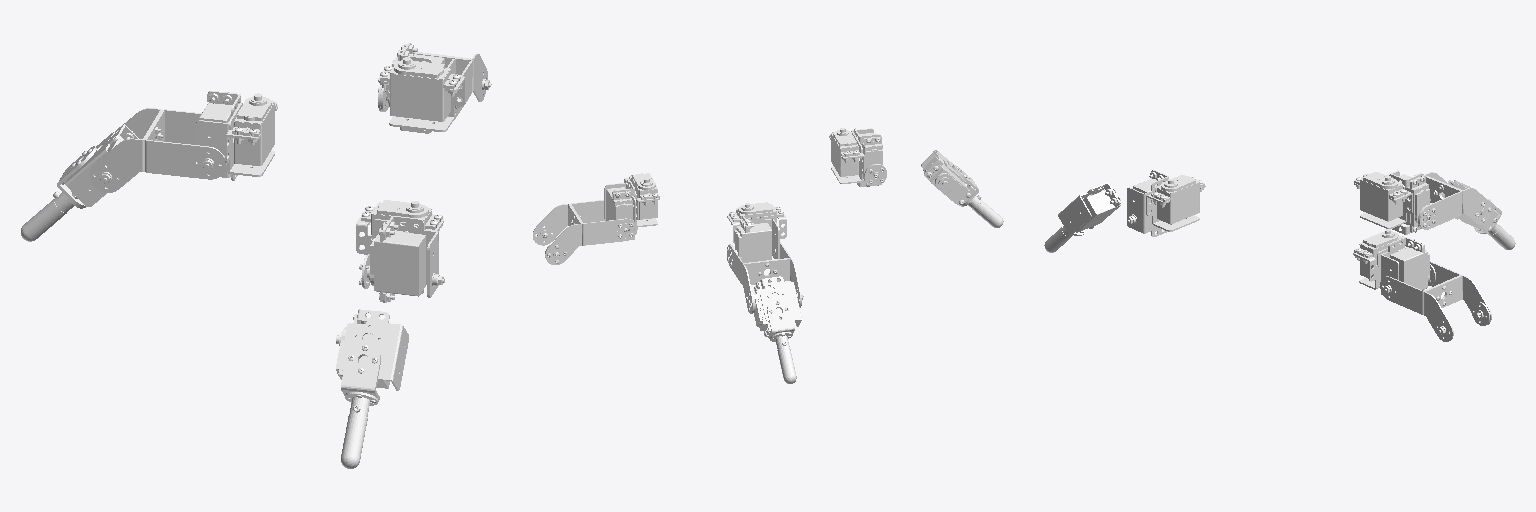
The robot description file, URDF, robot "THex_Quadruped":
<robot name="THex_Quadruped">
    <link name="base_link">
        <inertial>
            <mass value="0.30423"/>
            <origin xyz="-1.0171e-10 -0.0086065 0.03608" rpy="0 -0 0"/>
            <inertia ixx="0.00232" ixy="0" ixz="0" iyy="0.00064" iyz="8e-05" izz="0.00225"/>
        </inertial>
        <visual>
            <origin xyz="0 0 0" rpy="0 -0 0"/>
            <geometry>
                <mesh filename="model://THex_Quadruped/meshes/base_link.STL" scale="1 1 1"/>
            </geometry>
            <material name="base_linkbase_link_visual">
                <texture/>
                <color rgba="1.2 1.2 1.2 1.2"/>
            </material>
        </visual>
        <collision>
            <origin xyz="0 0 0" rpy="0 -0 0"/>
            <geometry>
                <mesh filename="model://THex_Quadruped/meshes/base_link_collision.STL" scale="1 1 1"/>
            </geometry>
        </collision>
    </link>
    <link name="bl_foot">
        <inertial>
            <mass value="0.09125"/>
            <origin xyz="0.021142 0.0035788 -0.0013921" rpy="-2.35926e-33 1.11022e-16 -4.25007e-17"/>
            <inertia ixx="1e-05" ixy="0" ixz="0" iyy="4e-05" iyz="0" izz="4e-05"/>
        </inertial>
        <visual>
            <origin xyz="-2.22045e-16 -2.77556e-16 1.2326e-32" rpy="-9.43706e-33 2.22045e-16 -8.50015e-17"/>
            <geometry>
                <mesh filename="model://THex_Quadruped/meshes/bl_foot.STL" scale="1 1 1"/>
            </geometry>
            <material name="bl_footbl_foot_visual">
                <texture/>
                <color rgba="1.2 1.2 1.2 1.2"/>
            </material>
        </visual>
        <collision>
            <origin xyz="-2.22045e-16 -2.77556e-16 1.2326e-32" rpy="-9.43706e-33 2.22045e-16 -8.50015e-17"/>
            <geometry>
                <mesh filename="model://THex_Quadruped/meshes/bl_foot_collision.STL" scale="1 1 1"/>
            </geometry>
        </collision>
    </link>
    <link name="bl_hip">
        <inertial>
            <mass value="0.14763"/>
            <origin xyz="0.015013 -0.0039618 0.012299" rpy="0 -0 0"/>
            <inertia ixx="5e-05" ixy="1e-05" ixz="-1e-05" iyy="5e-05" iyz="0" izz="6e-05"/>
        </inertial>
        <visual>
            <origin xyz="1.11022e-16 1.38778e-16 0" rpy="0 -0 0"/>
            <geometry>
                <mesh filename="model://THex_Quadruped/meshes/bl_hip.STL" scale="1 1 1"/>
            </geometry>
            <material name="bl_hipbl_hip_visual">
                <texture/>
                <color rgba="1.2 1.2 1.2 1.2"/>
            </material>
        </visual>
        <collision>
            <origin xyz="1.11022e-16 1.38778e-16 0" rpy="0 -0 0"/>
            <geometry>
                <mesh filename="model://THex_Quadruped/meshes/bl_hip_collision.STL" scale="1 1 1"/>
            </geometry>
        </collision>
    </link>
    <link name="bl_knee">
        <inertial>
            <mass value="0.03468"/>
            <origin xyz="0.045291 0.0044813 -0.0012523" rpy="0 -5.55112e-17 0"/>
            <inertia ixx="2e-05" ixy="0" ixz="0" iyy="3e-05" iyz="0" izz="2e-05"/>
        </inertial>
        <visual>
            <origin xyz="5.55112e-17 2.77556e-17 -1.38778e-17" rpy="0 -1.11022e-16 0"/>
            <geometry>
                <mesh filename="model://THex_Quadruped/meshes/bl_knee.STL" scale="1 1 1"/>
            </geometry>
            <material name="bl_kneebl_knee_visual">
                <texture/>
                <color rgba="1.2 1.2 1.2 1.2"/>
            </material>
        </visual>
        <collision>
            <origin xyz="5.55112e-17 2.77556e-17 -1.38778e-17" rpy="0 -1.11022e-16 0"/>
            <geometry>
                <mesh filename="model://THex_Quadruped/meshes/bl_knee_collision.STL" scale="1 1 1"/>
            </geometry>
        </collision>
    </link>
    <link name="br_foot">
        <inertial>
            <mass value="0.09125"/>
            <origin xyz="0.020857 -0.003581 -0.0013921" rpy="-4.33681e-19 1.77809e-17 1.82146e-17"/>
            <inertia ixx="1e-05" ixy="0" ixz="0" iyy="4e-05" iyz="0" izz="4e-05"/>
        </inertial>
        <visual>
            <origin xyz="5.55112e-17 5.55112e-17 -5.05557e-34" rpy="-8.67362e-19 3.55618e-17 3.64292e-17"/>
            <geometry>
                <mesh filename="model://THex_Quadruped/meshes/br_foot.STL" scale="1 1 1"/>
            </geometry>
            <material name="br_footbr_foot_visual">
                <texture/>
                <color rgba="1.2 1.2 1.2 1.2"/>
            </material>
        </visual>
        <collision>
            <origin xyz="5.55112e-17 5.55112e-17 -5.05557e-34" rpy="-8.67362e-19 3.55618e-17 3.64292e-17"/>
            <geometry>
                <mesh filename="model://THex_Quadruped/meshes/br_foot_collision.STL" scale="1 1 1"/>
            </geometry>
        </collision>
    </link>
    <link name="br_hip">
        <inertial>
            <mass value="0.14763"/>
            <origin xyz="0.014987 0.0036918 0.011971" rpy="0 -0 0"/>
            <inertia ixx="5e-05" ixy="-1e-05" ixz="-1e-05" iyy="5e-05" iyz="0" izz="6e-05"/>
        </inertial>
        <visual>
            <origin xyz="-5.55112e-17 2.77556e-17 -2.1684e-19" rpy="0 -0 0"/>
            <geometry>
                <mesh filename="model://THex_Quadruped/meshes/br_hip.STL" scale="1 1 1"/>
            </geometry>
            <material name="br_hipbr_hip_visual">
                <texture/>
                <color rgba="1.2 1.2 1.2 1.2"/>
            </material>
        </visual>
        <collision>
            <origin xyz="-5.55112e-17 2.77556e-17 -2.1684e-19" rpy="0 -0 0"/>
            <geometry>
                <mesh filename="model://THex_Quadruped/meshes/br_hip_collision.STL" scale="1 1 1"/>
            </geometry>
        </collision>
    </link>
    <link name="br_knee">
        <inertial>
            <mass value="0.03468"/>
            <origin xyz="0.045283 -0.0044813 -0.0010646" rpy="4.62223e-33 -1.66533e-16 -5.55112e-17"/>
            <inertia ixx="2e-05" ixy="0" ixz="0" iyy="3e-05" iyz="0" izz="2e-05"/>
        </inertial>
        <visual>
            <origin xyz="1.11022e-16 9.71445e-17 -1.38778e-17" rpy="1.84889e-32 -3.33067e-16 -1.11022e-16"/>
            <geometry>
                <mesh filename="model://THex_Quadruped/meshes/br_knee.STL" scale="1 1 1"/>
            </geometry>
            <material name="br_kneebr_knee_visual">
                <texture/>
                <color rgba="1.2 1.2 1.2 1.2"/>
            </material>
        </visual>
        <collision>
            <origin xyz="1.11022e-16 9.71445e-17 -1.38778e-17" rpy="1.84889e-32 -3.33067e-16 -1.11022e-16"/>
            <geometry>
                <mesh filename="model://THex_Quadruped/meshes/br_knee_collision.STL" scale="1 1 1"/>
            </geometry>
        </collision>
    </link>
    <link name="fl_foot">
        <inertial>
            <mass value="0.09125"/>
            <origin xyz="0.021142 0.0035788 -0.0013921" rpy="1.27593e-33 -4.59702e-17 -5.55112e-17"/>
            <inertia ixx="1e-05" ixy="0" ixz="0" iyy="4e-05" iyz="0" izz="4e-05"/>
        </inertial>
        <visual>
            <origin xyz="-1.11022e-16 3.08149e-33 -2.55186e-33" rpy="5.10371e-33 -9.19403e-17 -1.11022e-16"/>
            <geometry>
                <mesh filename="model://THex_Quadruped/meshes/fl_foot.STL" scale="1 1 1"/>
            </geometry>
            <material name="fl_footfl_foot_visual">
                <texture/>
                <color rgba="1.2 1.2 1.2 1.2"/>
            </material>
        </visual>
        <collision>
            <origin xyz="-1.11022e-16 3.08149e-33 -2.55186e-33" rpy="5.10371e-33 -9.19403e-17 -1.11022e-16"/>
            <geometry>
                <mesh filename="model://THex_Quadruped/meshes/fl_foot_collision.STL" scale="1 1 1"/>
            </geometry>
        </collision>
    </link>
    <link name="fl_hip">
        <inertial>
            <mass value="0.14763"/>
            <origin xyz="0.015006 0.0056423 0.012299" rpy="0 -0 0"/>
            <inertia ixx="5e-05" ixy="-1e-05" ixz="-1e-05" iyy="5e-05" iyz="0" izz="6e-05"/>
        </inertial>
        <visual>
            <origin xyz="-2.77556e-17 -1.38778e-17 0" rpy="0 -0 0"/>
            <geometry>
                <mesh filename="model://THex_Quadruped/meshes/fl_hip.STL" scale="1 1 1"/>
            </geometry>
            <material name="fl_hipfl_hip_visual">
                <texture/>
                <color rgba="1.2 1.2 1.2 1.2"/>
            </material>
        </visual>
        <collision>
            <origin xyz="-2.77556e-17 -1.38778e-17 0" rpy="0 -0 0"/>
            <geometry>
                <mesh filename="model://THex_Quadruped/meshes/fl_hip_collision.STL" scale="1 1 1"/>
            </geometry>
        </collision>
    </link>
    <link name="fl_knee">
        <inertial>
            <mass value="0.034681"/>
            <origin xyz="0.045273 0.0044813 -0.00044769" rpy="0 -5.55112e-17 0"/>
            <inertia ixx="2e-05" ixy="0" ixz="0" iyy="3e-05" iyz="0" izz="2e-05"/>
        </inertial>
        <visual>
            <origin xyz="-5.55112e-17 3.46945e-17 -1.54074e-33" rpy="0 -1.11022e-16 0"/>
            <geometry>
                <mesh filename="model://THex_Quadruped/meshes/fl_knee.STL" scale="1 1 1"/>
            </geometry>
            <material name="fl_kneefl_knee_visual">
                <texture/>
                <color rgba="1.2 1.2 1.2 1.2"/>
            </material>
        </visual>
        <collision>
            <origin xyz="-5.55112e-17 3.46945e-17 -1.54074e-33" rpy="0 -1.11022e-16 0"/>
            <geometry>
                <mesh filename="model://THex_Quadruped/meshes/fl_knee_collision.STL" scale="1 1 1"/>
            </geometry>
        </collision>
    </link>
    <link name="fr_foot">
        <inertial>
            <mass value="0.09125"/>
            <origin xyz="0.020857 -0.003581 -0.0013921" rpy="0 -0 5.55112e-17"/>
            <inertia ixx="1e-05" ixy="0" ixz="0" iyy="4e-05" iyz="0" izz="4e-05"/>
        </inertial>
        <visual>
            <origin xyz="-1.11022e-16 -3.08149e-33 -1.38778e-17" rpy="0 -0 1.11022e-16"/>
            <geometry>
                <mesh filename="model://THex_Quadruped/meshes/fr_foot.STL" scale="1 1 1"/>
            </geometry>
            <material name="fr_footfr_foot_visual">
                <texture/>
                <color rgba="1.2 1.2 1.2 1.2"/>
            </material>
        </visual>
        <collision>
            <origin xyz="-1.11022e-16 -3.08149e-33 -1.38778e-17" rpy="0 -0 1.11022e-16"/>
            <geometry>
                <mesh filename="model://THex_Quadruped/meshes/fr_foot_collision.STL" scale="1 1 1"/>
            </geometry>
        </collision>
    </link>
    <link name="fr_hip">
        <inertial>
            <mass value="0.14763"/>
            <origin xyz="0.015044 -0.0059121 0.011971" rpy="0 -0 0"/>
            <inertia ixx="5e-05" ixy="1e-05" ixz="-1e-05" iyy="5e-05" iyz="0" izz="6e-05"/>
        </inertial>
        <visual>
            <origin xyz="0 0 0" rpy="0 -0 0"/>
            <geometry>
                <mesh filename="model://THex_Quadruped/meshes/fr_hip.STL" scale="1 1 1"/>
            </geometry>
            <material name="fr_hipfr_hip_visual">
                <texture/>
                <color rgba="1.2 1.2 1.2 1.2"/>
            </material>
        </visual>
        <collision>
            <origin xyz="0 0 0" rpy="0 -0 0"/>
            <geometry>
                <mesh filename="model://THex_Quadruped/meshes/fr_hip_collision.STL" scale="1 1 1"/>
            </geometry>
        </collision>
    </link>
    <link name="fr_knee">
        <inertial>
            <mass value="0.03468"/>
            <origin xyz="0.045275 -0.0044813 -0.00025994" rpy="0 -5.55112e-17 0"/>
            <inertia ixx="2e-05" ixy="0" ixz="0" iyy="3e-05" iyz="0" izz="2e-05"/>
        </inertial>
        <visual>
            <origin xyz="-7.70372e-34 3.46945e-17 2.77556e-17" rpy="0 -1.11022e-16 0"/>
            <geometry>
                <mesh filename="model://THex_Quadruped/meshes/fr_knee.STL" scale="1 1 1"/>
            </geometry>
            <material name="fr_kneefr_knee_visual">
                <texture/>
                <color rgba="1.2 1.2 1.2 1.2"/>
            </material>
        </visual>
        <collision>
            <origin xyz="-7.70372e-34 3.46945e-17 2.77556e-17" rpy="0 -1.11022e-16 0"/>
            <geometry>
                <mesh filename="model://THex_Quadruped/meshes/fr_knee_collision.STL" scale="1 1 1"/>
            </geometry>
        </collision>
    </link>
    <joint name="bl_foot_joint" type="revolute">
        <origin xyz="0.073069 0.018656 -0.00019751" rpy="3.134 0.0073895 0.7853"/>
        <axis xyz="1.11022e-16 -2.35926e-33 1"/>
        <parent link="bl_knee"/>
        <child link="bl_foot"/>
        <dynamics damping="0" friction="0"/>
        <limit effort="0.9414" velocity="5.23" lower="-1.5707" upper="1.5707"/>
    </joint>
    <joint name="bl_hip_joint" type="revolute">
        <origin xyz="-0.053162 -0.12711 0" rpy="0 0 -2.372"/>
        <axis xyz="0 0 1"/>
        <parent link="base_link"/>
        <child link="bl_hip"/>
        <dynamics damping="0" friction="0"/>
        <limit effort="0.9414" velocity="5.23" lower="-0.7853" upper="0.7853"/>
    </joint>
    <joint name="bl_knee_joint" type="revolute">
        <origin xyz="0.028451 6.245e-17 0" rpy="-1.5602 0 0"/>
        <axis xyz="-5.55112e-17 0 1"/>
        <parent link="bl_hip"/>
        <child link="bl_knee"/>
        <dynamics damping="0" friction="0"/>
        <limit effort="0.9414" velocity="5.23" lower="-1.5707" upper="1.5707"/>
    </joint>
    <joint name="br_foot_joint" type="revolute">
        <origin xyz="0.073065 -0.018656 -0.0001221" rpy="-3.1369 0.0045678 -0.7853"/>
        <axis xyz="1.77809e-17 4.33681e-19 1"/>
        <parent link="br_knee"/>
        <child link="br_foot"/>
        <dynamics damping="0" friction="0"/>
        <limit effort="0.9414" velocity="5.23" lower="-1.5707" upper="1.5707"/>
    </joint>
    <joint name="br_hip_joint" type="revolute">
        <origin xyz="0.053162 -0.12711 0.0005334" rpy="0 0 -0.77529"/>
        <axis xyz="0 0 1"/>
        <parent link="base_link"/>
        <child link="br_hip"/>
        <dynamics damping="0" friction="0"/>
        <limit effort="0.9414" velocity="5.23" lower="-0.7853" upper="0.7853"/>
    </joint>
    <joint name="br_knee_joint" type="revolute">
        <origin xyz="0.028449 -6.93889e-18 -1.0842e-19" rpy="1.5643 -0 0"/>
        <axis xyz="-1.66533e-16 4.62223e-33 1"/>
        <parent link="br_hip"/>
        <child link="br_knee"/>
        <dynamics damping="0" friction="0"/>
        <limit effort="0.9414" velocity="5.23" lower="-1.5707" upper="1.5707"/>
    </joint>
    <joint name="fl_foot_joint" type="revolute">
        <origin xyz="0.073066 0.018656 0.00012569" rpy="-3.1368 -0.0047025 0.7853"/>
        <axis xyz="-4.59702e-17 1.27593e-33 1"/>
        <parent link="fl_knee"/>
        <child link="fl_foot"/>
        <dynamics damping="0" friction="0"/>
        <limit effort="0.9414" velocity="5.23" lower="-1.5707" upper="1.5707"/>
    </joint>
    <joint name="fl_hip_joint" type="revolute">
        <origin xyz="-0.059512 0.078854 0" rpy="0 -0 2.3666"/>
        <axis xyz="0 0 1"/>
        <parent link="base_link"/>
        <child link="fl_hip"/>
        <dynamics damping="0" friction="0"/>
        <limit effort="0.9414" velocity="5.23" lower="-0.7853" upper="0.7853"/>
    </joint>
    <joint name="fl_knee_joint" type="revolute">
        <origin xyz="0.028449 -6.93889e-18 0" rpy="-1.5775 3.93837e-17 3.91205e-17"/>
        <axis xyz="-5.55112e-17 0 1"/>
        <parent link="fl_hip"/>
        <child link="fl_knee"/>
        <dynamics damping="0" friction="0"/>
        <limit effort="0.9414" velocity="5.23" lower="-1.5707" upper="1.5707"/>
    </joint>
    <joint name="fr_foot_joint" type="revolute">
        <origin xyz="0.07307 -0.018656 0.0002011" rpy="3.1339 -0.0075232 -0.7853"/>
        <axis xyz="0 0 1"/>
        <parent link="fr_knee"/>
        <child link="fr_foot"/>
        <dynamics damping="0" friction="0"/>
        <limit effort="0.9414" velocity="5.23" lower="-1.5707" upper="1.5707"/>
    </joint>
    <joint name="fr_hip_joint" type="revolute">
        <origin xyz="0.059512 0.078854 0.0005334" rpy="0 -0 0.76931"/>
        <axis xyz="0 0 1"/>
        <parent link="base_link"/>
        <child link="fr_hip"/>
        <dynamics damping="0" friction="0"/>
        <limit effort="0.9414" velocity="5.23" lower="-0.7853" upper="0.7853"/>
    </joint>
    <joint name="fr_knee_joint" type="revolute">
        <origin xyz="0.028451 -6.93889e-18 0" rpy="1.5816 -3.94638e-17 3.90397e-17"/>
        <axis xyz="-5.55112e-17 0 1"/>
        <parent link="fr_hip"/>
        <child link="fr_knee"/>
        <dynamics damping="0" friction="0"/>
        <limit effort="0.9414" velocity="5.23" lower="-1.5707" upper="1.5707"/>
    </joint>
</robot>

--- What the picture shows (computed from the rendered views, not written in the file) ---
The picture shows the robot from 3 angles, left to right: view 1: azimuth 30°, elevation 25°; view 2: azimuth 150°, elevation 25°; view 3: azimuth 270°, elevation 25°; orthographic projection.
Model THex_Quadruped with 13 links and 12 joints (12 revolute), rooted at base_link, posed all joints at 0.
Links seen in each view (by area): view 1: bl_hip, fl_knee, bl_foot, fr_hip, fl_hip, fl_foot, fr_knee; view 2: fr_knee, fl_foot, bl_hip, fl_hip, fr_hip, bl_foot, fl_knee; view 3: bl_hip, fl_hip, fr_knee, fr_hip, bl_foot, fl_knee, fl_foot.
Boxes of the visible links, box(x1,y1,x2,y2) form: bl_hip: box(356, 200, 444, 302); fl_knee: box(89, 108, 226, 192); bl_foot: box(336, 309, 408, 468); fr_hip: box(378, 43, 465, 133); fl_hip: box(196, 91, 277, 180); fl_foot: box(21, 124, 138, 241); fr_knee: box(378, 52, 491, 119); fr_knee: box(533, 200, 637, 264); fl_foot: box(748, 276, 801, 383); bl_hip: box(829, 128, 886, 186); fl_hip: box(727, 202, 786, 265); fr_hip: box(604, 173, 659, 239); bl_foot: box(921, 150, 1003, 227); fl_knee: box(727, 242, 803, 313); bl_hip: box(1127, 170, 1205, 236); fl_hip: box(1354, 171, 1435, 234); fr_knee: box(1380, 261, 1491, 341); fr_hip: box(1353, 229, 1435, 294); bl_foot: box(1044, 182, 1120, 252); fl_knee: box(1419, 172, 1491, 229); fl_foot: box(1441, 180, 1515, 249).
Size in the robot's own frame: 0.3416 by 0.4465 by 0.1299 metres.
Meshes: 13 distinct files referenced, 7 mesh visuals loaded (7 binary STL); not drawn: 6 (file found but could not be loaded).
